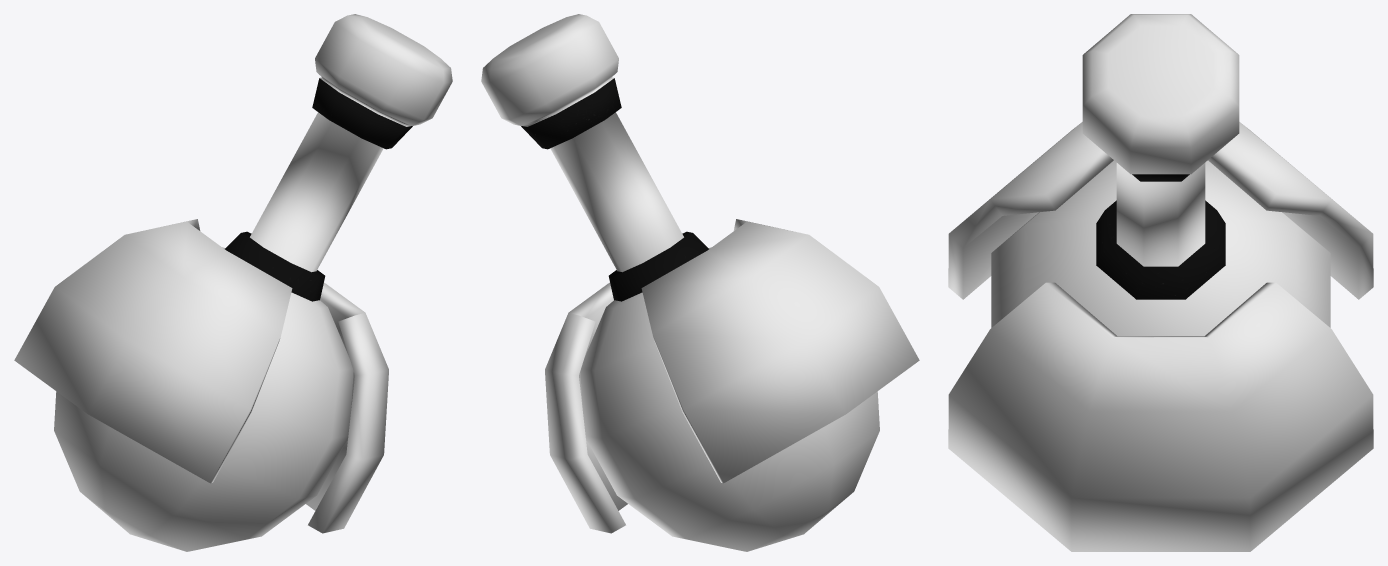
Rendered from Handle.fbx.
3 views of the same model, side by side, from view 1: azimuth 30°, elevation 25°; view 2: azimuth 150°, elevation 25°; view 3: azimuth 270°, elevation 25° (orthographic). The views are drawn at different scales.
Parts seen in each view (by area): view 1: LHandle, LHandleStopper; view 2: LHandle, LHandleStopper; view 3: LHandleStopper, LHandle.
Boxes of the visible parts, bbox=[...] form: LHandle: bbox=[54, 14, 452, 551]; LHandleStopper: bbox=[14, 219, 388, 533]; LHandle: bbox=[481, 14, 879, 551]; LHandleStopper: bbox=[545, 219, 919, 533]; LHandleStopper: bbox=[948, 122, 1373, 551]; LHandle: bbox=[991, 14, 1330, 336].
Bounding box in the file's own units: 0.1938 × 0.2257 × 0.1505.
